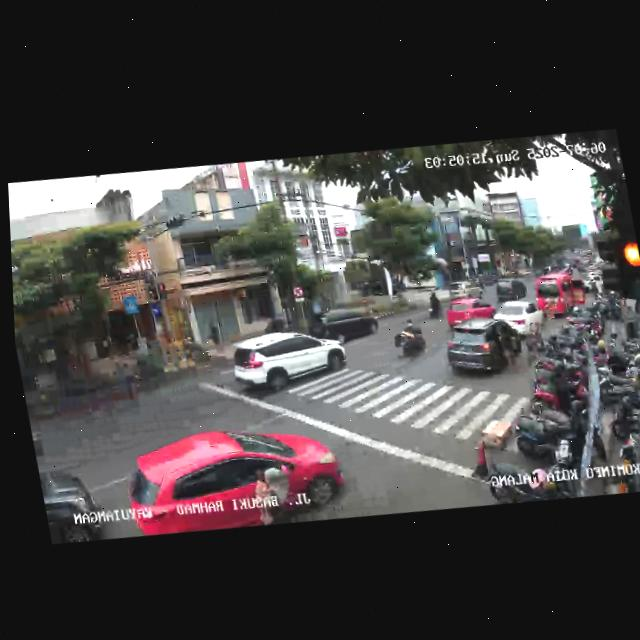car: (115, 409, 352, 549), (226, 320, 350, 406), (37, 453, 107, 547), (440, 318, 518, 387), (308, 300, 382, 351), (534, 268, 594, 323), (492, 295, 546, 339), (443, 293, 497, 336), (493, 275, 528, 306), (446, 277, 483, 304)
motorcycle: (389, 315, 430, 365), (423, 290, 444, 321)
